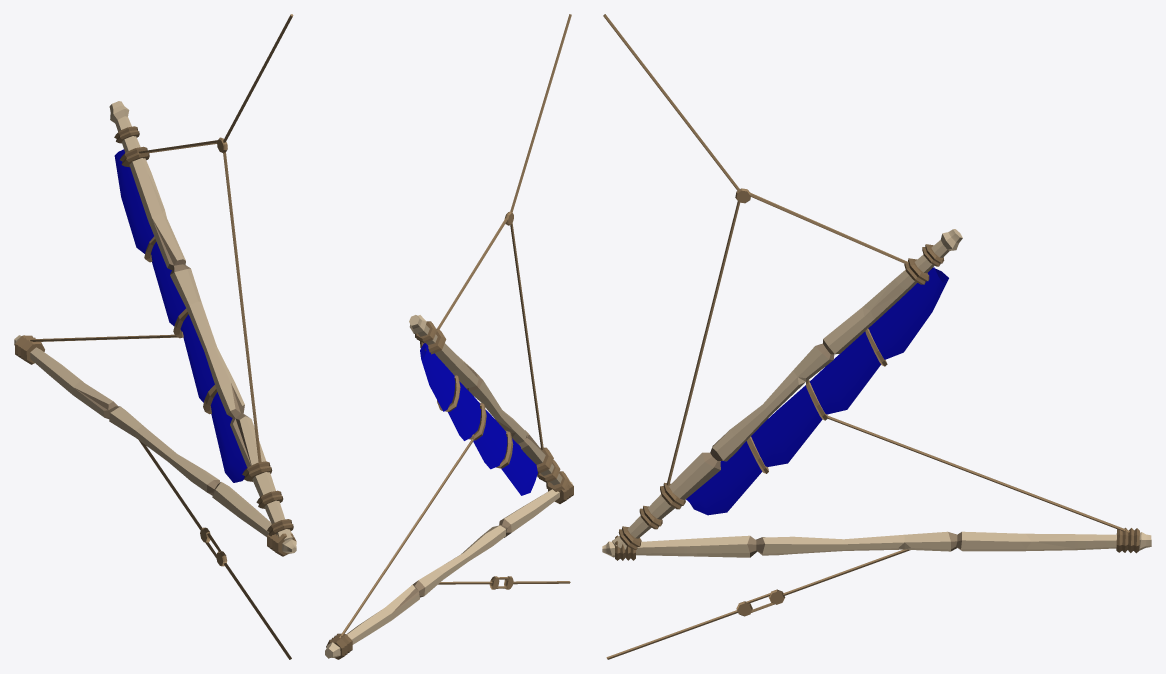
File: SM_Veh_Ship_L_Mast_Back_02_Boom_Back_01_Tied.fbx
3 views of the same model, side by side, from view 1: azimuth 30°, elevation 25°; view 2: azimuth 150°, elevation 25°; view 3: azimuth 270°, elevation 25° (orthographic). The views are drawn at different scales.
Visible parts, largest first — view 1: SM_Veh_Ship_L_Mast_Back_02_Boom_Back_01_Tied; view 2: SM_Veh_Ship_L_Mast_Back_02_Boom_Back_01_Tied; view 3: SM_Veh_Ship_L_Mast_Back_02_Boom_Back_01_Tied.
Part boxes in pixels (bbox=[...]): SM_Veh_Ship_L_Mast_Back_02_Boom_Back_01_Tied: bbox=[14, 14, 296, 659]; SM_Veh_Ship_L_Mast_Back_02_Boom_Back_01_Tied: bbox=[325, 14, 573, 659]; SM_Veh_Ship_L_Mast_Back_02_Boom_Back_01_Tied: bbox=[602, 14, 1151, 659].
Size of the model in its own units: 85.89 by 2024 by 1562.
